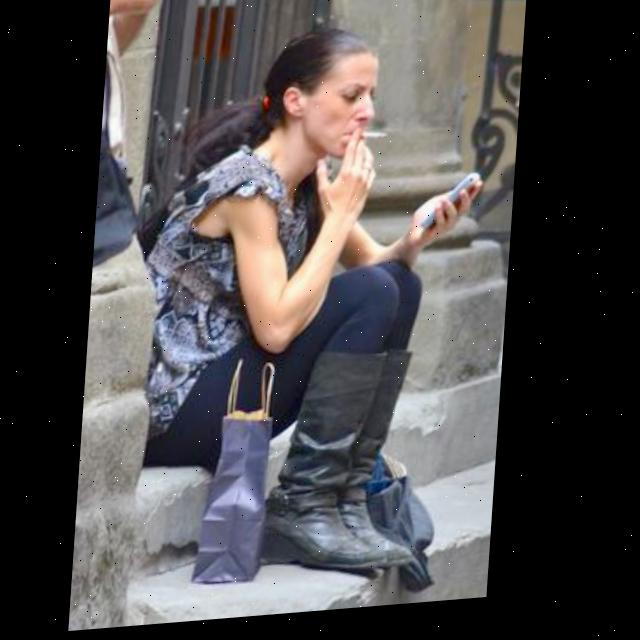cigarette: (362, 137, 390, 148)
